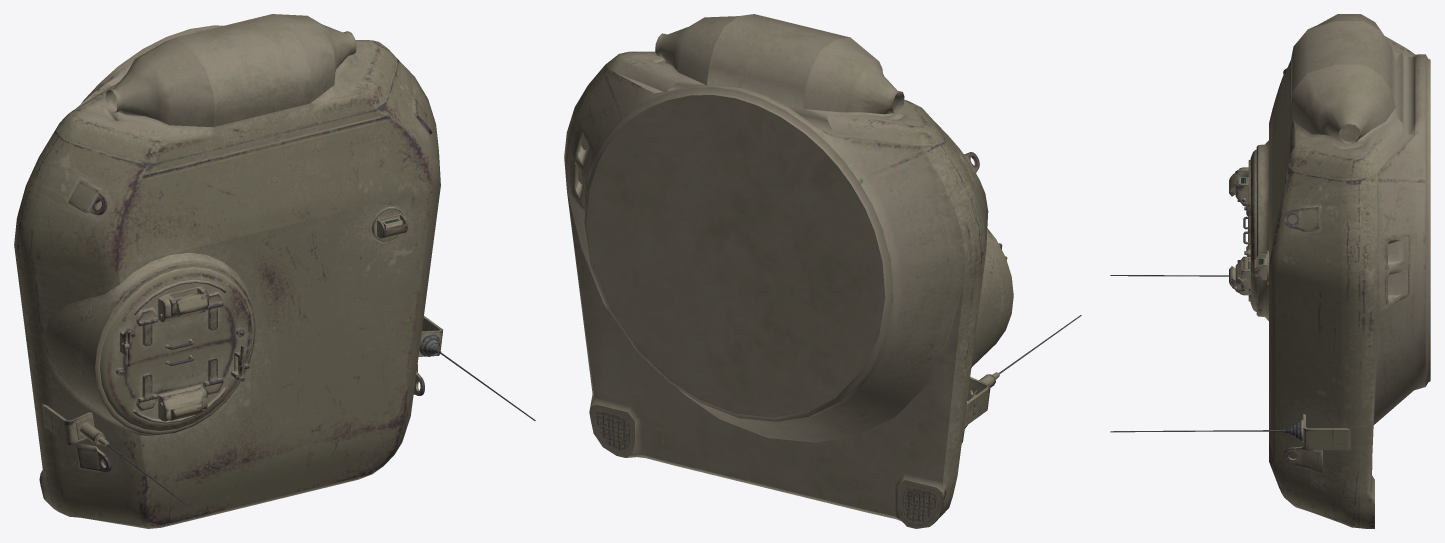
File: Turret_01.glb
The picture shows the model from 3 angles, left to right: view 1: azimuth 30°, elevation 25°; view 2: azimuth 150°, elevation 25°; view 3: azimuth 270°, elevation 25°; orthographic projection. The views are drawn at different scales.
Visible parts, largest first — view 1: set_0_group_0; view 2: set_0_group_0; view 3: set_0_group_0.
Part boxes in pixels (box(x1,y1,x2,y2)): set_0_group_0: box(14, 14, 535, 528); set_0_group_0: box(564, 14, 1081, 528); set_0_group_0: box(1110, 14, 1430, 528).
Size of the model in its own units: 2.19 by 2.27 by 1.58.
Materials: 1 (1 with a texture image).
